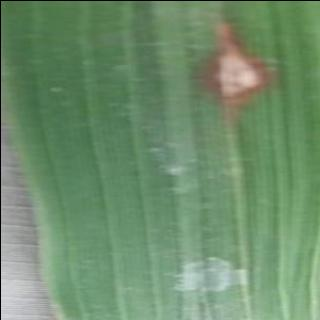Blast: (190, 23, 275, 110)
